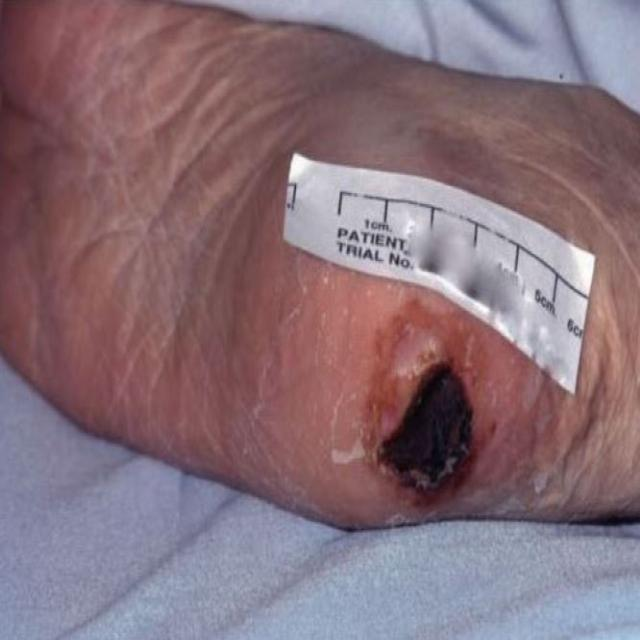Unstageable: (380, 367, 471, 489)
